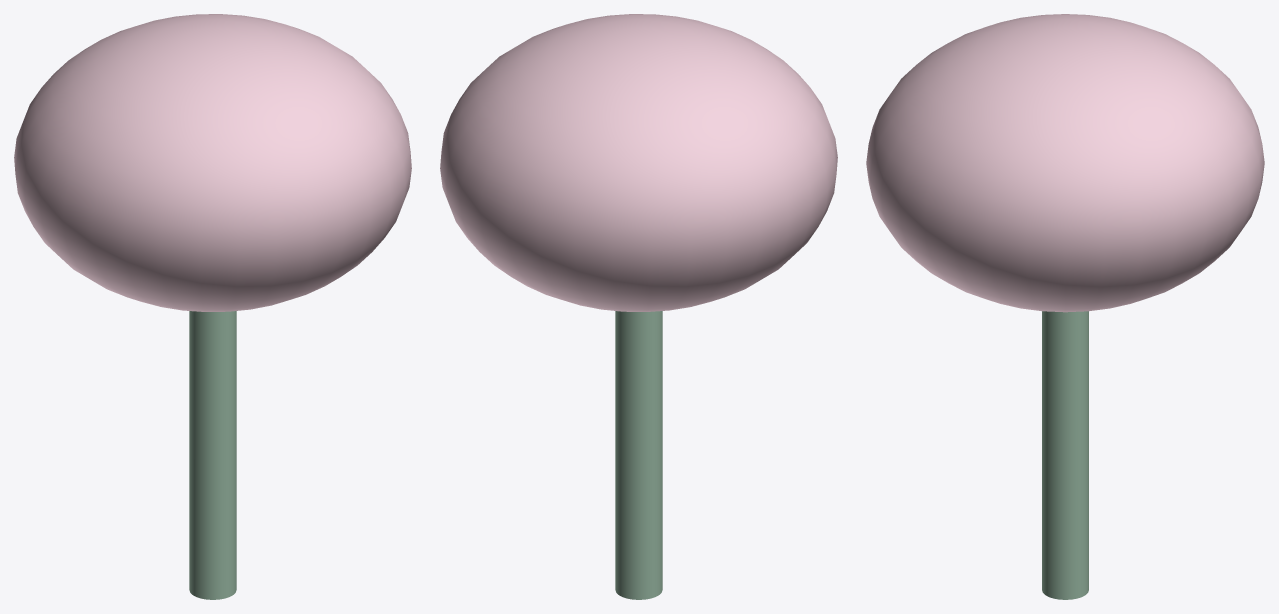
The model's file is flower-test-bundle.glb.
3 renders of one model, left to right at view 1: azimuth 30°, elevation 25°; view 2: azimuth 150°, elevation 25°; view 3: azimuth 270°, elevation 25°, orthographic.
Visible parts, largest first — view 1: bloom, stem; view 2: bloom, stem; view 3: bloom, stem.
Boxes of the visible parts, x1,y1,x2,y2 form: bloom: (14, 14, 411, 311); stem: (189, 311, 236, 599); bloom: (440, 14, 837, 311); stem: (615, 311, 662, 599); bloom: (866, 14, 1264, 312); stem: (1042, 311, 1088, 599).
Size of the model in its own units: 44 by 67 by 44.
